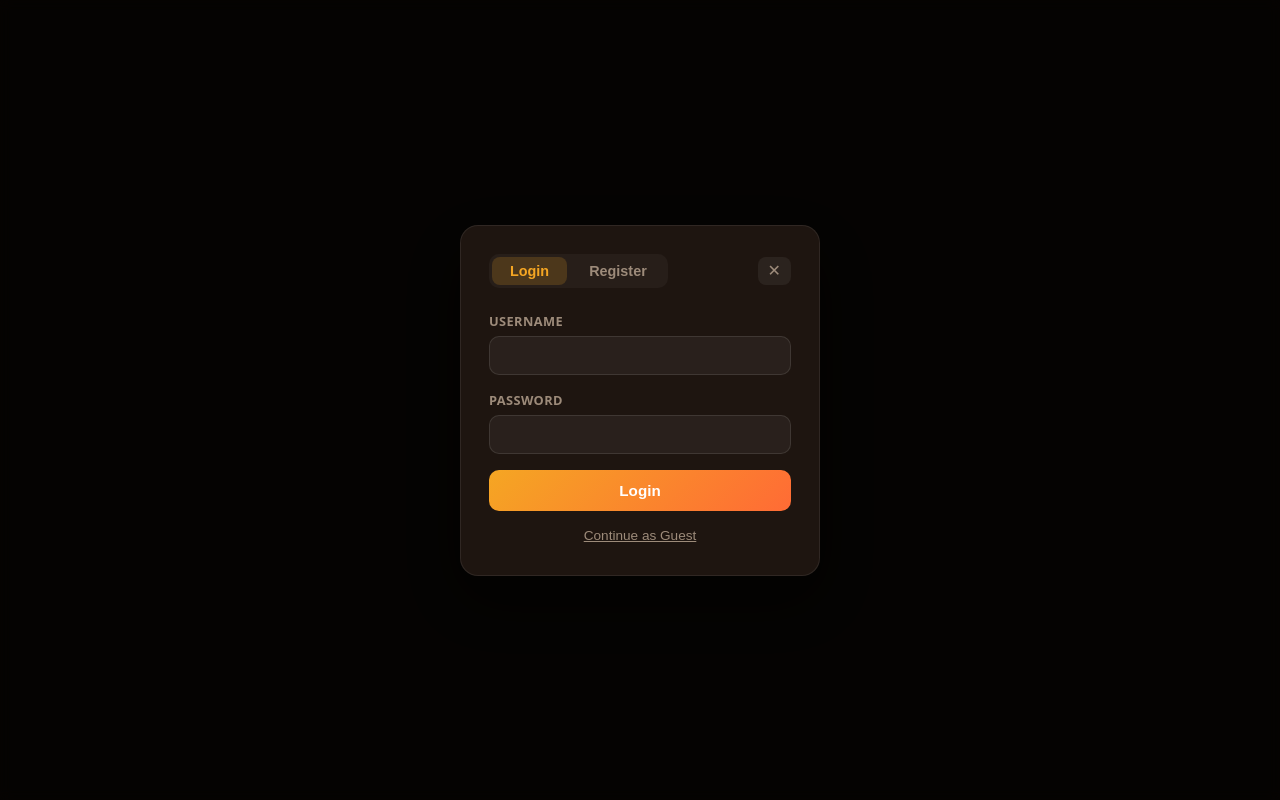
Test case: AuthModal › switches to register tab when clicked
The width and height of the screenshot is (1280, 800).
Click the tab "Register": (618, 270) [571,256,665,284]
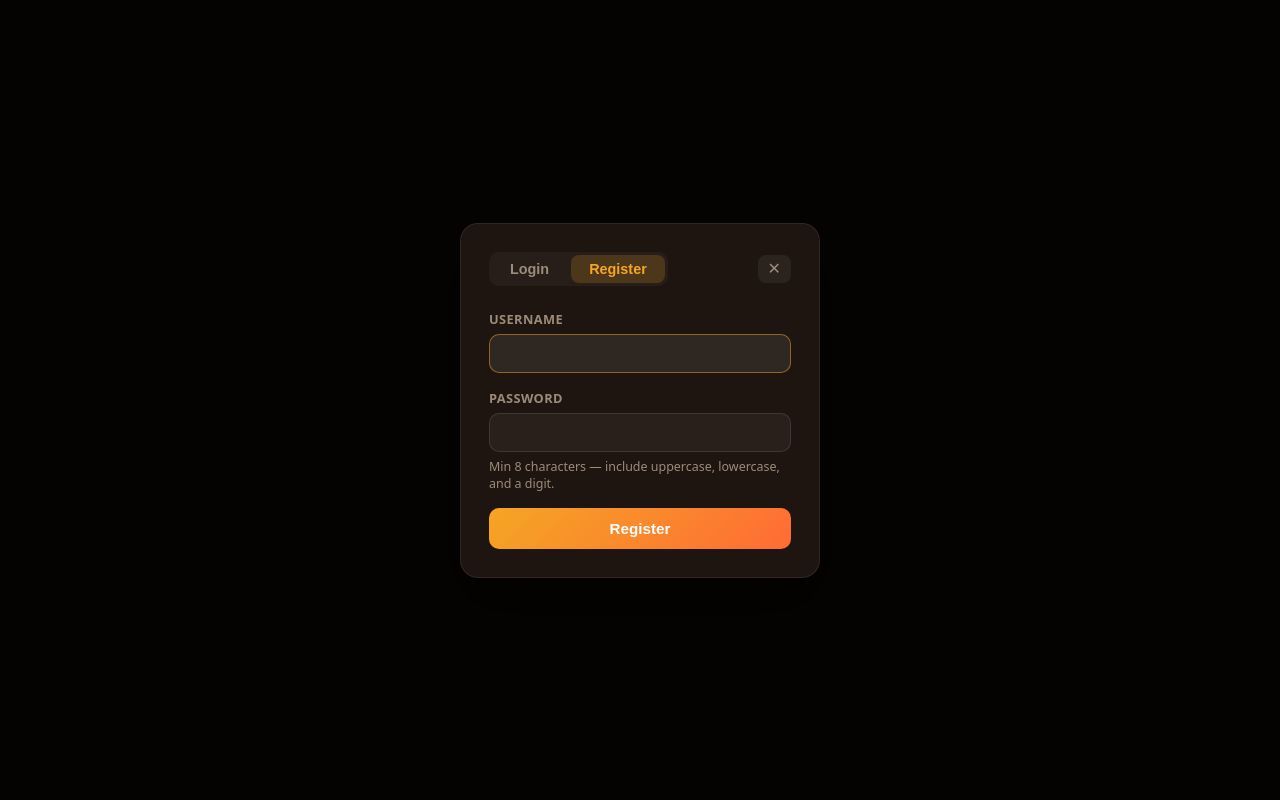
Result: the button "Register" is shown at [489,508,791,548]
Result: the button "Continue as Guest" is gone
